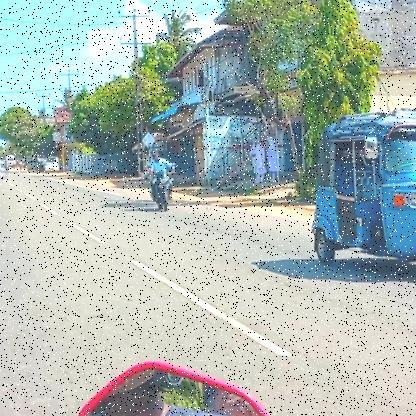motorcycle: (146, 170, 180, 213)
